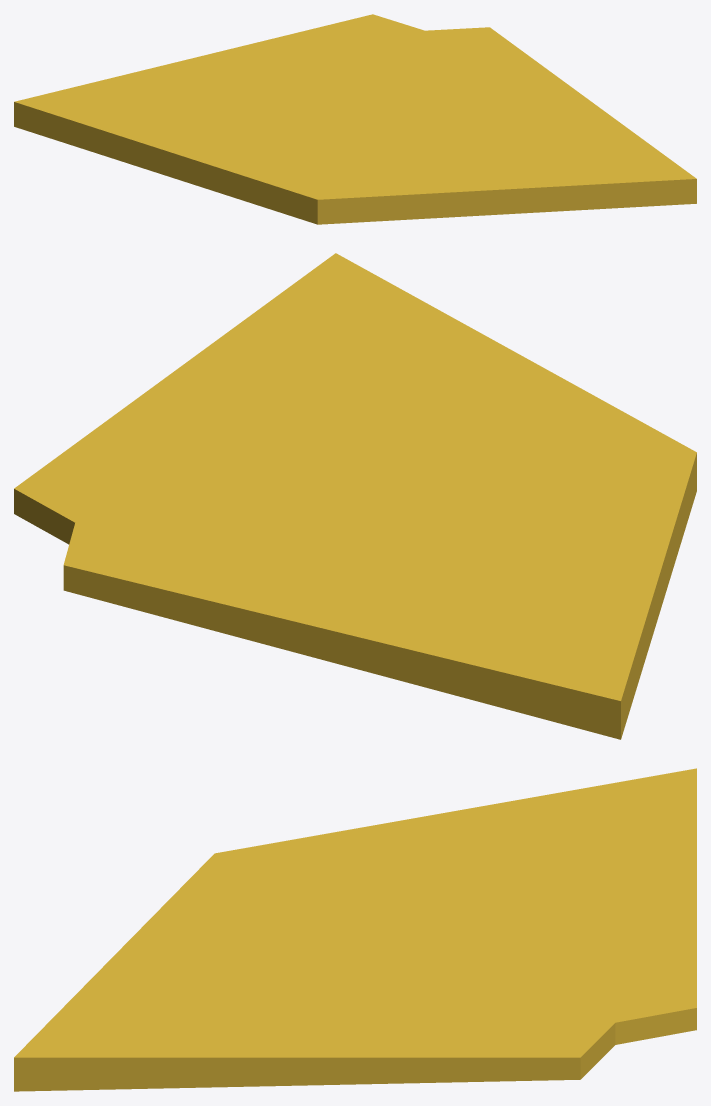
File: base_level_piece_3.fbx
3 views of the same model, one above another, from view 1: azimuth 30°, elevation 25°; view 2: azimuth 150°, elevation 25°; view 3: azimuth 270°, elevation 25° (orthographic). The views are drawn at different scales.
Parts seen in each view (by area): view 1: polySurface12; view 2: polySurface12; view 3: polySurface12.
Part boxes in pixels (bbox=[...]): polySurface12: bbox=[14, 14, 696, 224]; polySurface12: bbox=[14, 253, 696, 739]; polySurface12: bbox=[14, 768, 696, 1091].
Size of the model in its own units: 489 by 26.88 by 488.
